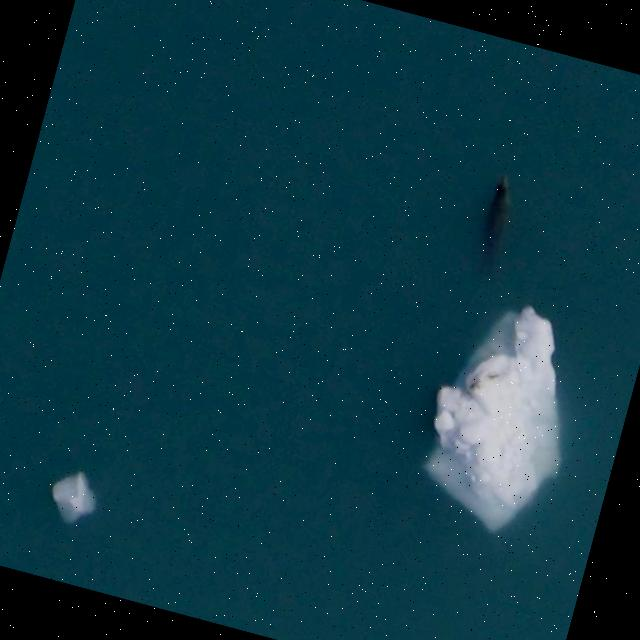seal: (472, 175, 514, 269)
